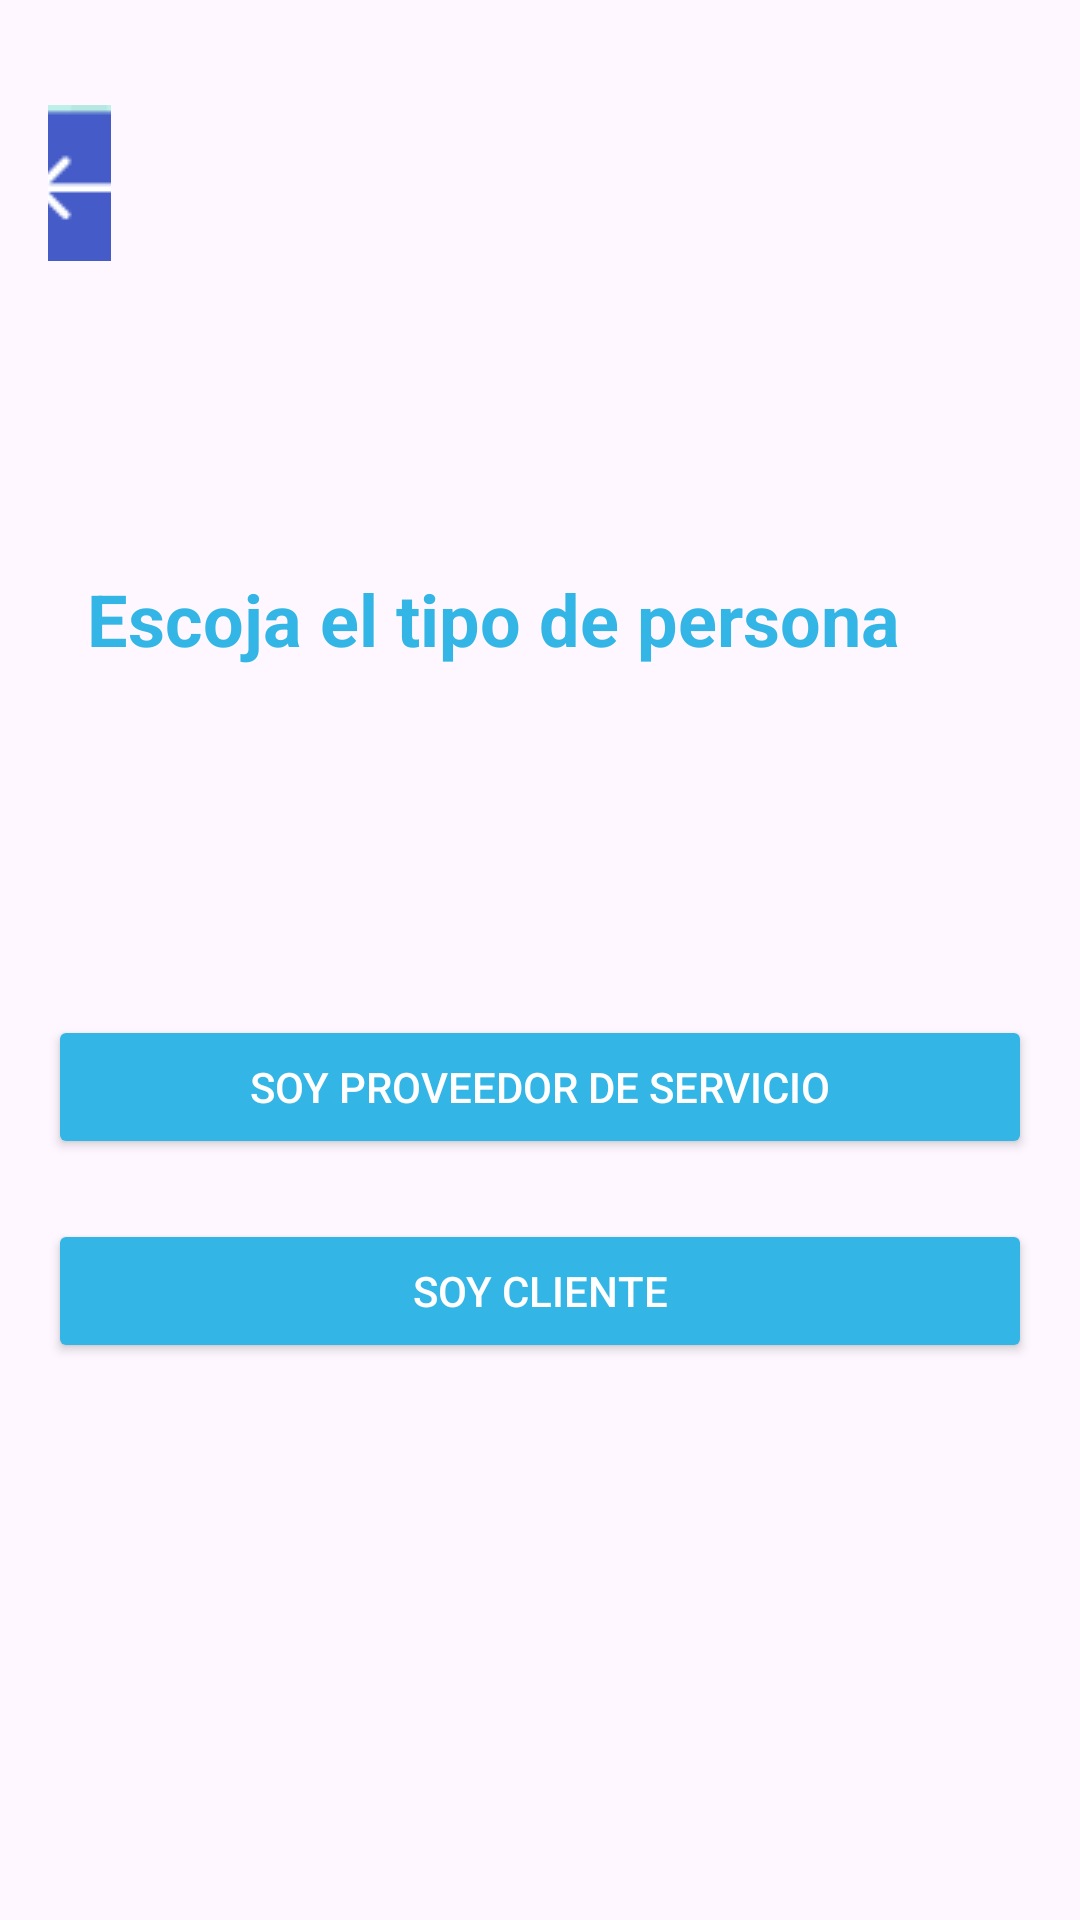

Icons on this 1080×1920 Android screen, each with the point to tap as point (x, y):
Botón de retroceso: point (79, 183)
